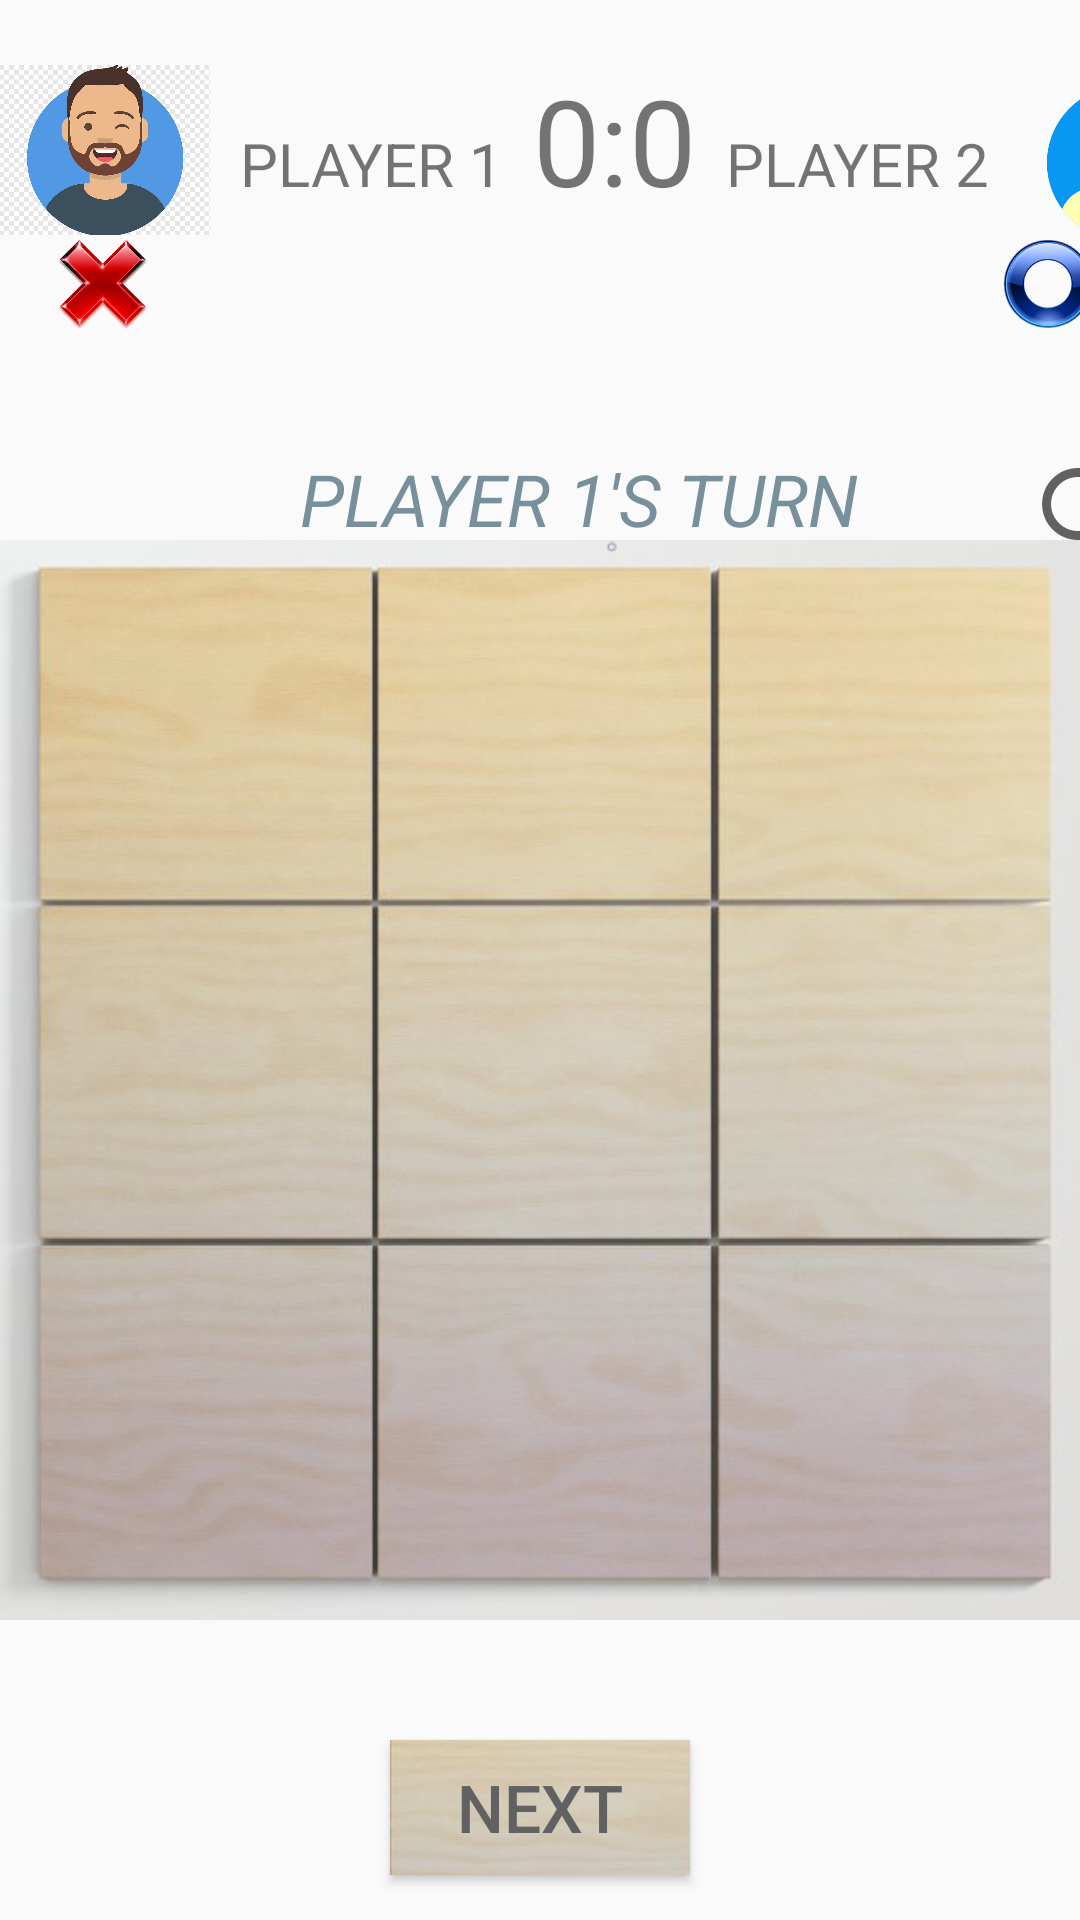

Where icons sit on this 1080 × 1920 app screen, as (x1, y1, x2, y2):
playerone: (8, 65, 201, 235)
